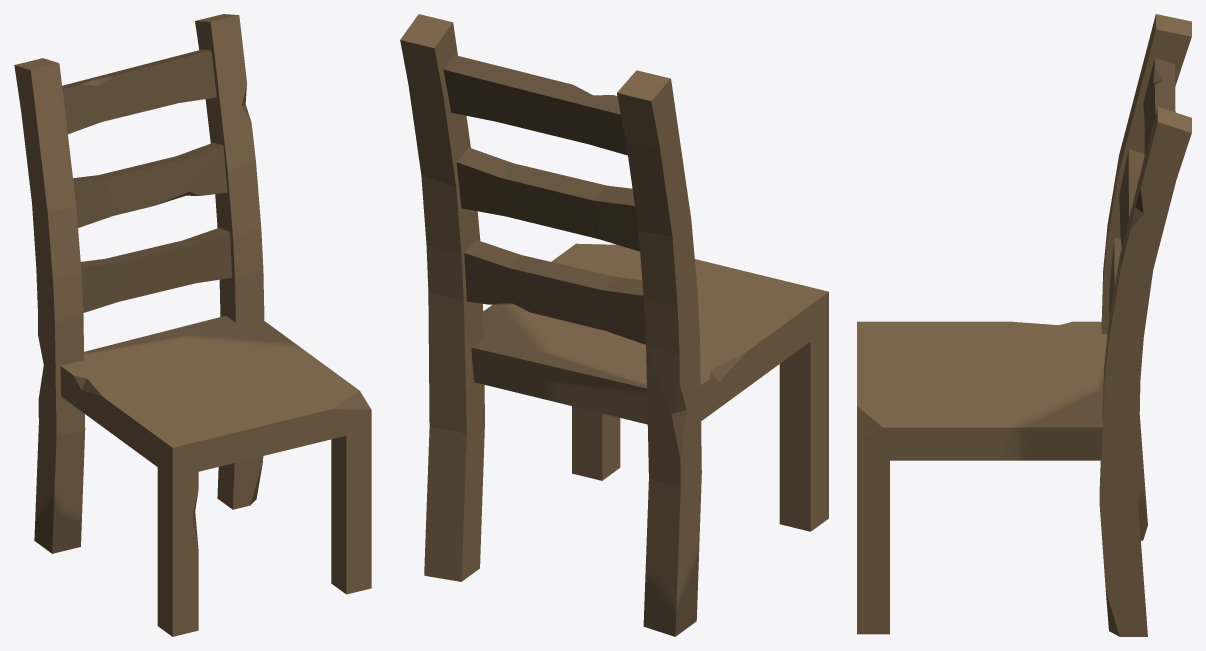
The model's file is Prop_Chair_01.glb.
3 renders of one model, left to right at view 1: azimuth 30°, elevation 25°; view 2: azimuth 150°, elevation 25°; view 3: azimuth 270°, elevation 25°, orthographic. The views are drawn at different scales.
Visible parts, largest first — view 1: SM_Gen_Prop_Chair_01; view 2: SM_Gen_Prop_Chair_01; view 3: SM_Gen_Prop_Chair_01.
Part boxes in pixels (<box>): SM_Gen_Prop_Chair_01: <box>14,14,371,636</box>; SM_Gen_Prop_Chair_01: <box>400,14,828,636</box>; SM_Gen_Prop_Chair_01: <box>857,14,1191,636</box>.
Size of the model in its own units: 0.5027 by 1.08 by 0.6367.
Materials: 1 (1 with a texture image).
